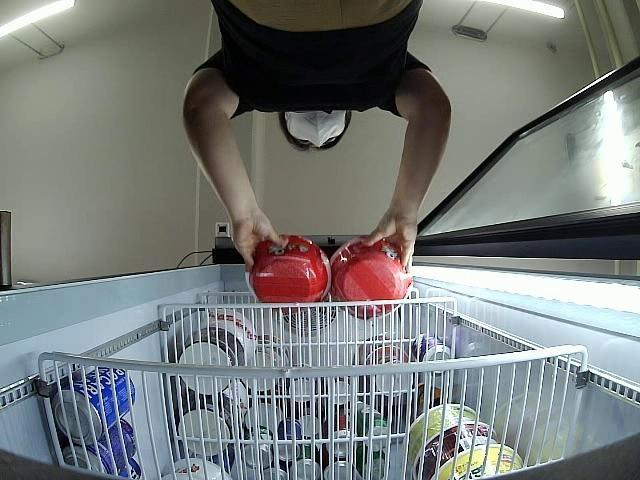10_wangTtukkeong: (331, 238, 409, 316), (247, 237, 331, 304)
